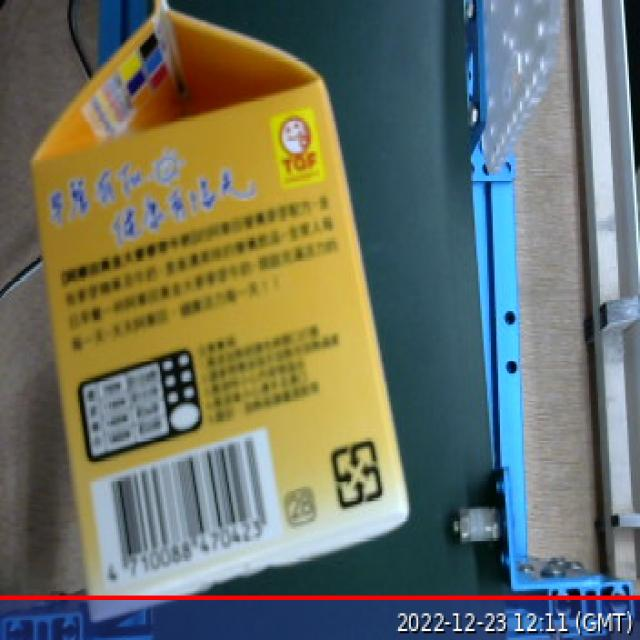non_white_jug: (14, 1, 434, 629)
